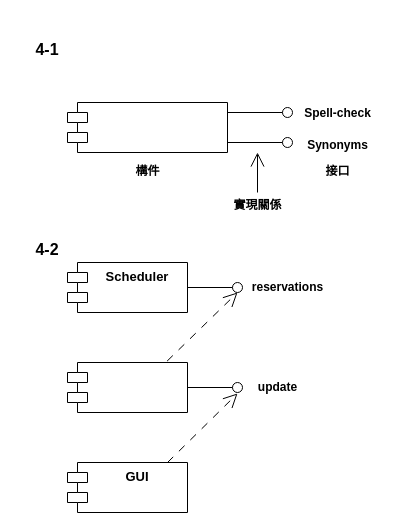
Image size: 394x530. Some labels were removed from this diagram. Here are the shapes that lost their labels. From the top down, the box of each, then its label:
(66, 102, 228, 152): Dictionary
(66, 362, 188, 412): Planner
